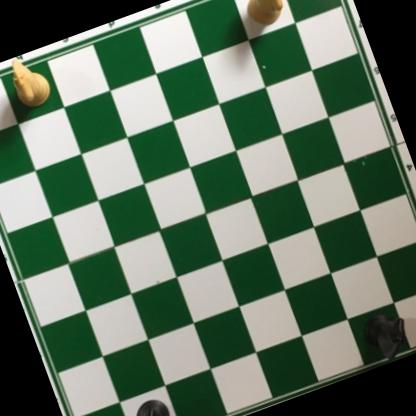black-knight: (359, 305, 416, 368), (129, 394, 180, 416)
white-knight: (4, 50, 56, 115), (234, 0, 296, 31)
